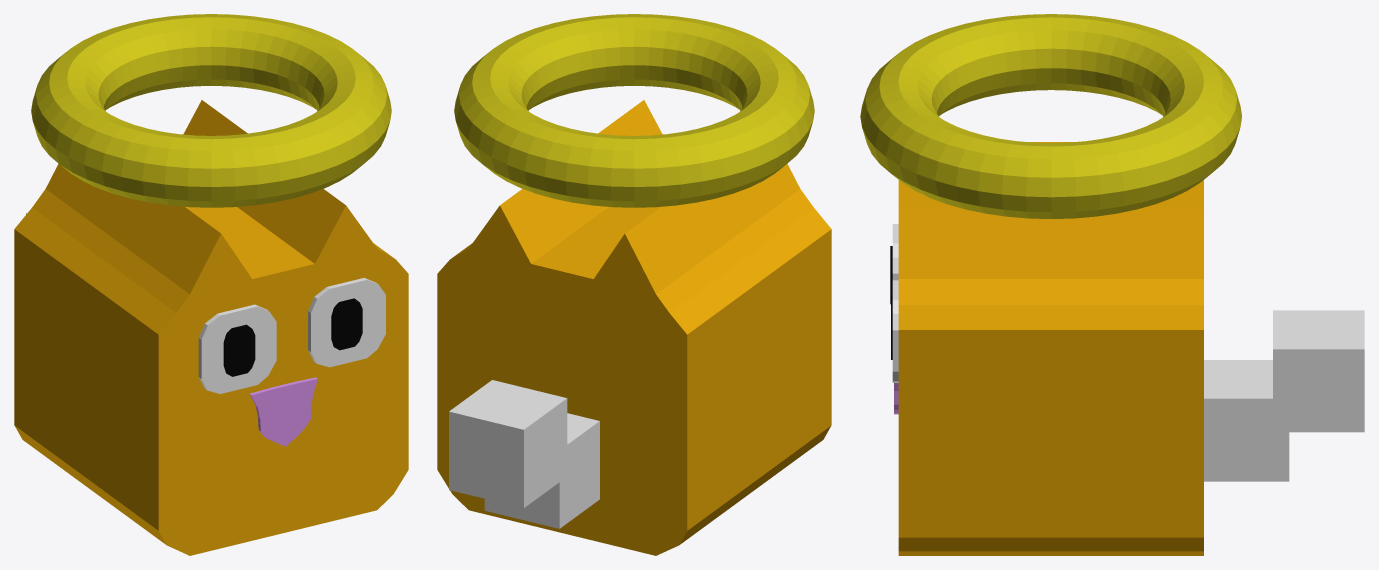
Rendered from magicat_legendary_skin_halo2.fbx.
3 renders of one model, left to right at view 1: azimuth 30°, elevation 25°; view 2: azimuth 150°, elevation 25°; view 3: azimuth 270°, elevation 25°, orthographic. The views are drawn at different scales.
Visible parts, largest first — view 1: Face, Torus, RightEye, LeftEye, Cube, LeftPupil, RightPupil; view 2: Face, Torus, Tail2, Tail1; view 3: Face, Torus, Tail2, Tail1, RightEye.
Part boxes in pixels (x1,y1,x2,y2): Face: [14, 100, 408, 555]; Torus: [31, 14, 391, 207]; RightEye: [308, 277, 385, 367]; LeftEye: [198, 304, 276, 393]; Cube: [250, 377, 317, 446]; LeftPupil: [223, 324, 255, 376]; RightPupil: [331, 298, 362, 350]; Face: [437, 100, 831, 555]; Torus: [454, 14, 814, 207]; Tail2: [449, 380, 567, 508]; Tail1: [484, 413, 599, 528]; Face: [898, 142, 1203, 555]; Torus: [860, 14, 1241, 218]; Tail2: [1273, 310, 1364, 432]; Tail1: [1204, 360, 1289, 481]; RightEye: [892, 280, 898, 382].
Size of the model in its own units: 250 by 307 by 330.
